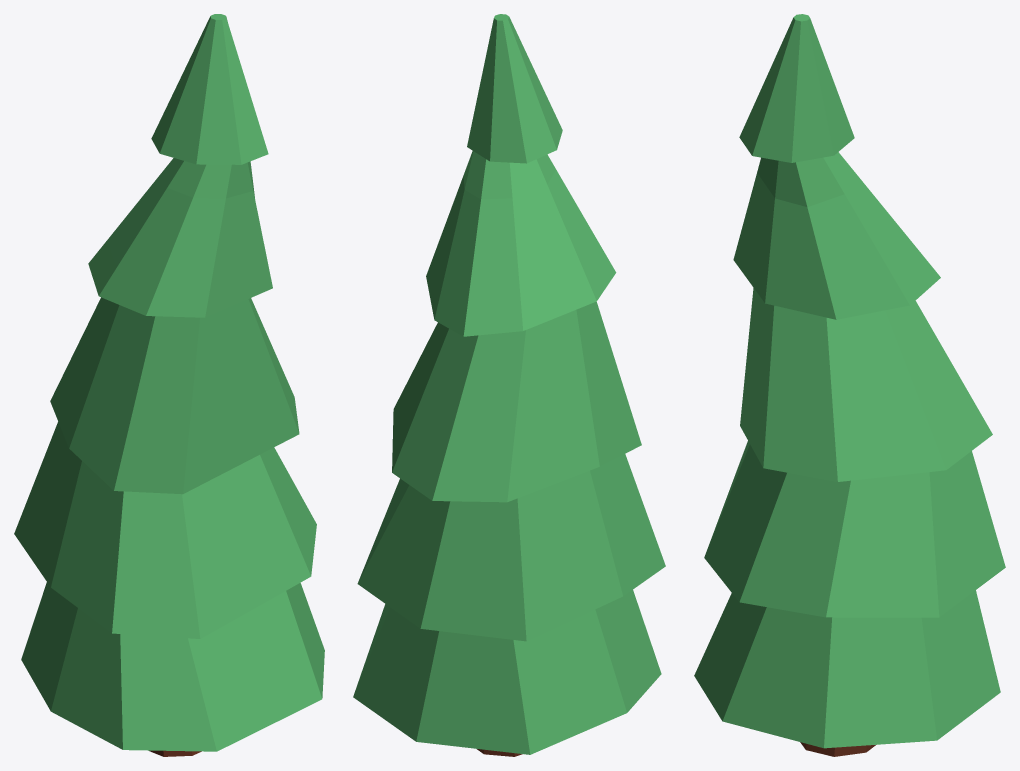
Rendered from PineTree_B.fbx.
3 renders of one model, left to right at view 1: azimuth 30°, elevation 25°; view 2: azimuth 150°, elevation 25°; view 3: azimuth 270°, elevation 25°, orthographic. The views are drawn at different scales.
Parts seen in each view (by area): view 1: PineTree_B; view 2: PineTree_B; view 3: PineTree_B.
Boxes of the visible parts, x1,y1,x2,y2 form: PineTree_B: [14, 14, 324, 756]; PineTree_B: [353, 14, 665, 756]; PineTree_B: [694, 14, 1005, 756].
Bounding box in the file's own units: 135 × 354 × 136.
